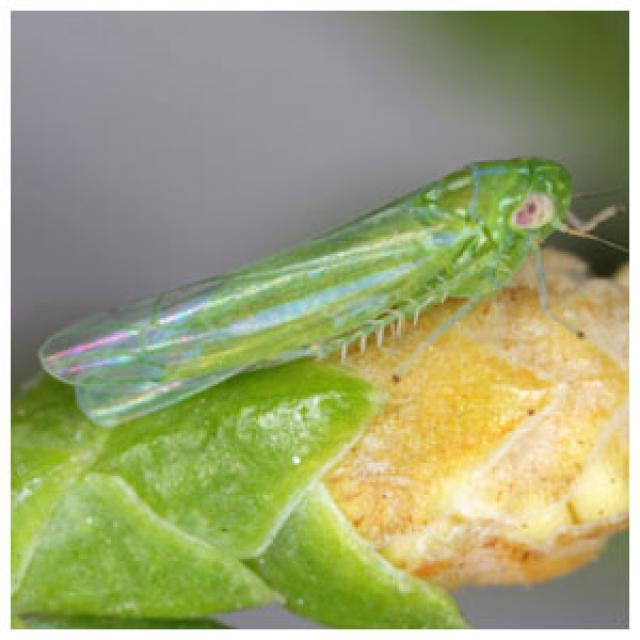Yechan: (24, 144, 580, 441)
